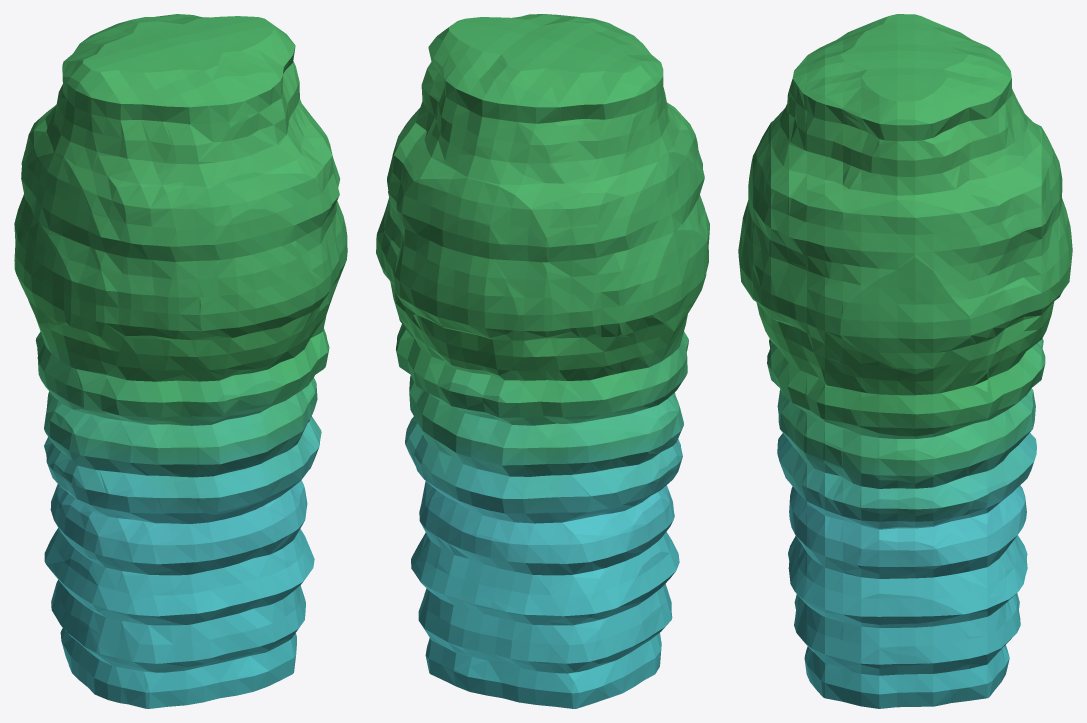
3 renders of one model, left to right at view 1: azimuth 30°, elevation 25°; view 2: azimuth 150°, elevation 25°; view 3: azimuth 270°, elevation 25°, orthographic.
Visible parts, largest first — view 1: geometry_0; view 2: geometry_0; view 3: geometry_0.
Boxes of the visible parts, x1,y1,x2,y2 form: geometry_0: [14, 14, 347, 708]; geometry_0: [376, 14, 709, 708]; geometry_0: [738, 14, 1072, 708].
Size of the model in its own units: 0.764 by 1.6 by 0.789.
